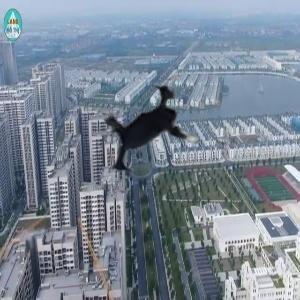drone: (79, 60, 226, 207)
